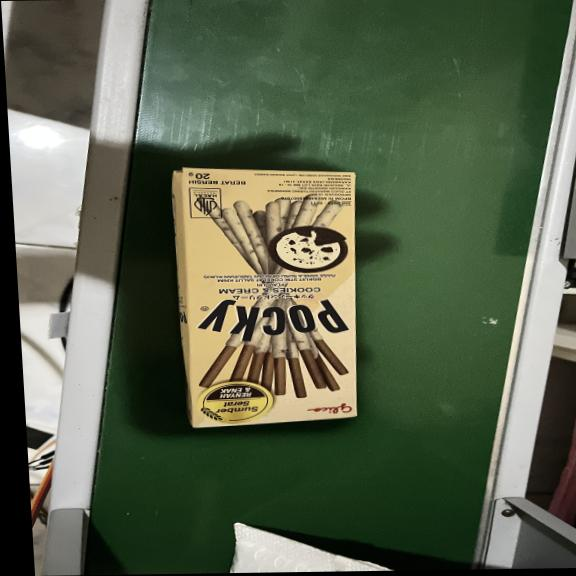Kertas: (154, 162, 363, 423)
